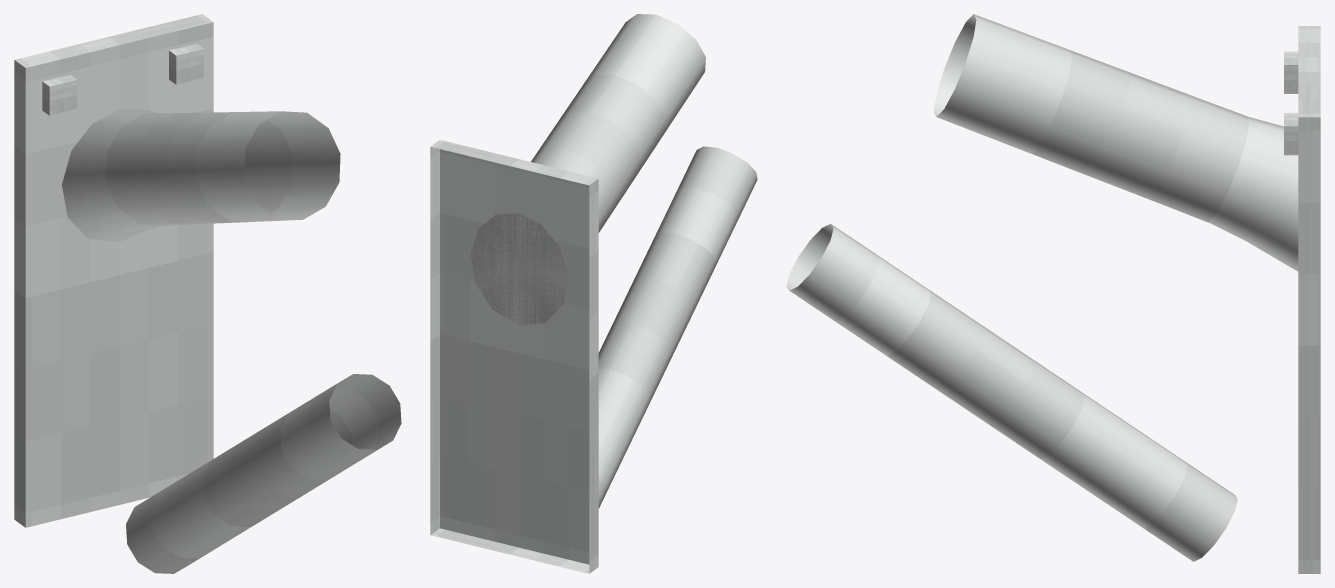
The model's file is luminairearm_truss10ftstraightdouble_c8_wall.obj.
3 views of the same model, side by side, from view 1: azimuth 30°, elevation 25°; view 2: azimuth 150°, elevation 25°; view 3: azimuth 270°, elevation 25° (orthographic). The views are drawn at different scales.
Parts seen in each view (by area): view 1: luminairearm_truss10ftstraightdouble_c8_wall; view 2: luminairearm_truss10ftstraightdouble_c8_wall; view 3: luminairearm_truss10ftstraightdouble_c8_wall.
Boxes of the visible parts, left/top/right/bottom form: luminairearm_truss10ftstraightdouble_c8_wall: left=14, top=14, right=401, bottom=573; luminairearm_truss10ftstraightdouble_c8_wall: left=430, top=14, right=757, bottom=573; luminairearm_truss10ftstraightdouble_c8_wall: left=786, top=14, right=1320, bottom=573.
Size of the model in its own units: 0.4221 by 1.16 by 1.05.
